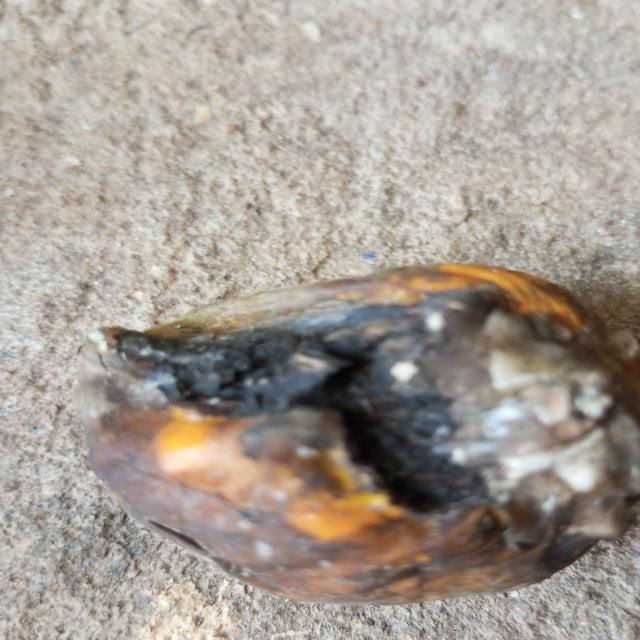damaged: (75, 265, 640, 603)
